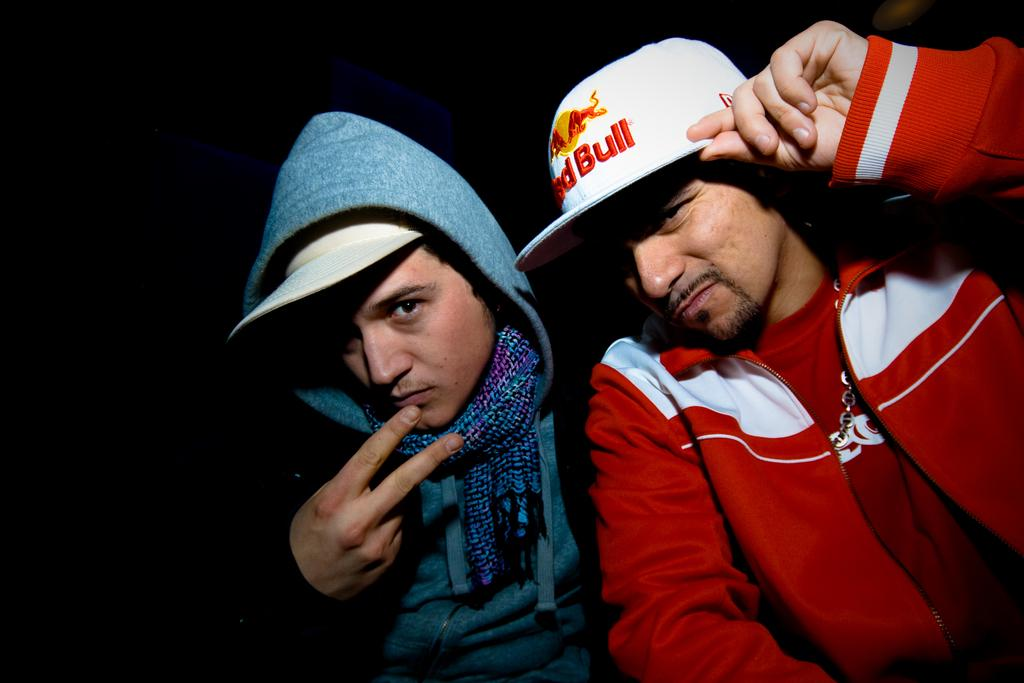Hat: (512, 31, 748, 274), (228, 211, 428, 342)
